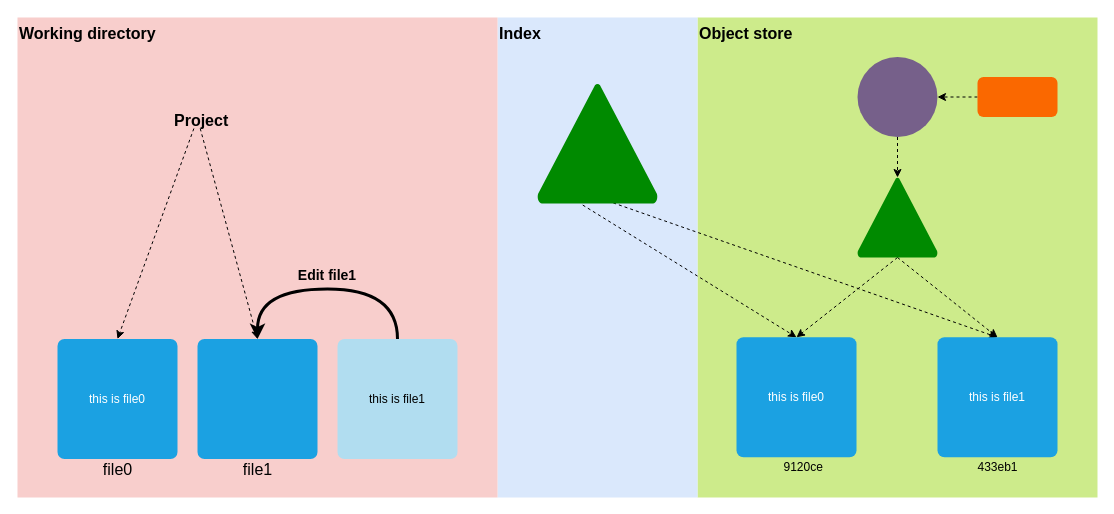
This 1114x514 diagram has some shape labels left out. Each missing label, with the centre of its shape:
file0 file1: point (597, 143)
master: point (1017, 96)
this is file1, modified: point (257, 398)
